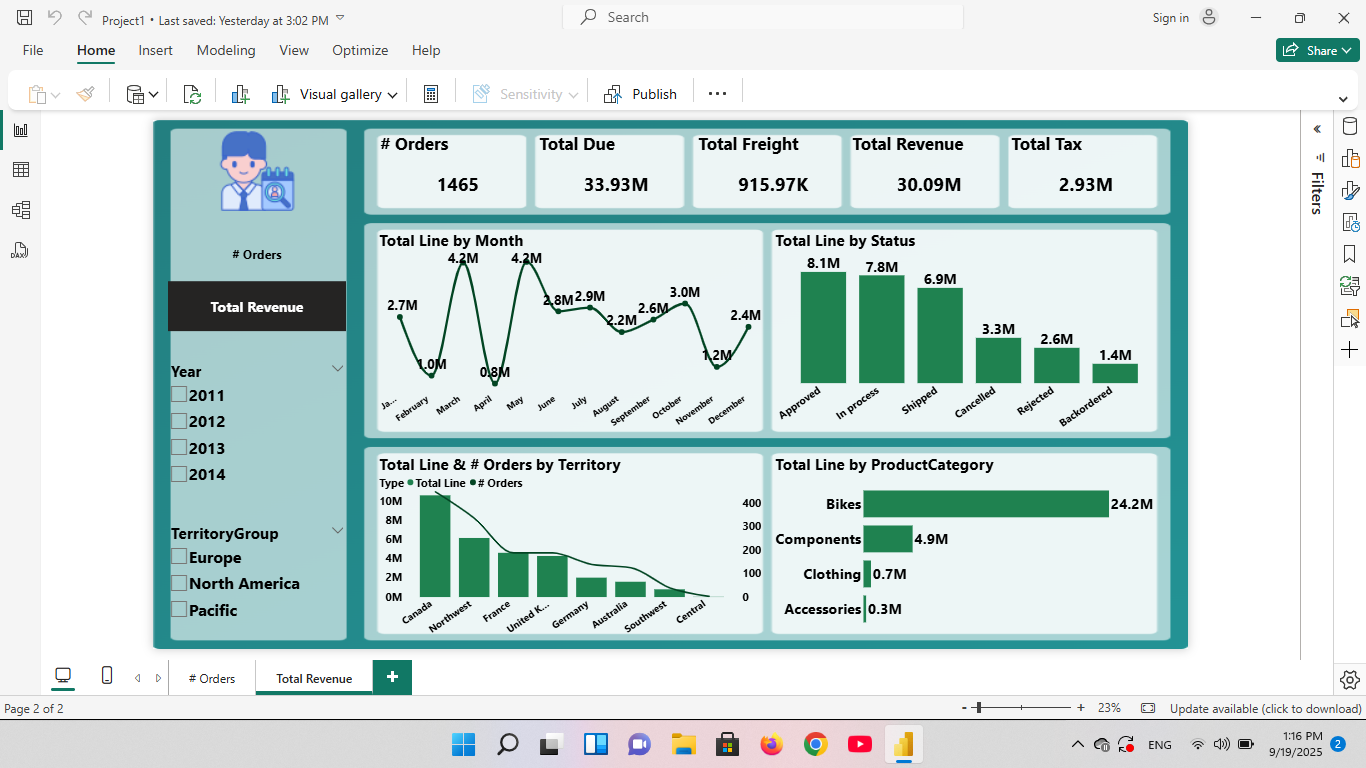

The dashboard page shown, as its layout file describes it:
{"tool":"powerbi","page":{"name":"Total Revenue","canvas":[4500,2300],"ordinal":1},"visuals":[{"type":"card","title":"# Orders","fields":{"Values":["Measures (2).# Orders"]},"box":[976.3,42.2,694.7,356.7],"z":0},{"type":"card","title":"Total Due","fields":{"Values":["Measures (2).Total Due"]},"box":[1671,42.2,690,356.7],"z":1000},{"type":"card","title":"Total Revenue","fields":{"Values":["Measures (2).Total Line"]},"box":[3032.2,42.2,690,356.7],"z":2000},{"type":"card","title":"Total Freight","fields":{"Values":["Measures (2).Total Freight"]},"box":[2361,42.2,671.2,356.7],"z":3000},{"type":"card","title":"Total Tax","fields":{"Values":["Measures (2).Total Tax"]},"box":[3722.2,42.2,671.2,356.7],"z":4000},{"type":"clusteredColumnChart","fields":{"Category":["dim_Status.Status"],"Y":["Measures (2).Total Line"]},"box":[2699,474.1,1694.5,887.1],"z":5000},{"type":"lineClusteredColumnComboChart","title":"Total Line & # Orders by Territory","fields":{"Category":["dim_Territory.Territory"],"Y2":["Measures (2).# Orders"],"Y":["Measures (2).Total Line"]},"box":[976.3,1445.7,1671,807.3],"z":6000},{"type":"lineChart","fields":{"Category":["dim_Date.Date.Variation.Date Hierarchy.Month"],"Y":["Measures (2).Total Line"]},"box":[976.3,474.1,1671,887.1],"z":7000},{"type":"clusteredBarChart","fields":{"Category":["dim_Product.ProductCategory"],"Y":["Measures (2).Total Line"]},"box":[2699,1445.7,1694.5,807.3],"z":8000},{"type":"image","box":[65.7,42.2,774.5,356.7],"z":9000},{"type":"pageNavigator","box":[65.7,474.1,774.5,445.9],"z":10000},{"type":"slicer","fields":{"Values":["dim_Territory.TerritoryGroup"]},"box":[65.7,1741.4,774.5,511.6],"z":11000},{"type":"slicer","fields":{"Values":["dim_Date.Year"]},"box":[65.7,1037.3,774.5,619.6],"z":11001}]}

Visuals, with their boxes on the page's 4500x2300 design canvas (x1, y1, x2, y2). These are canvas units, not pixel positions in the 1366x768 screenshot, which may show the page scaled, cropped or inside an application window:
"# Orders" card: 976,42,1671,399
"Total Due" card: 1671,42,2361,399
"Total Revenue" card: 3032,42,3722,399
"Total Freight" card: 2361,42,3032,399
"Total Tax" card: 3722,42,4393,399
clusteredColumnChart - dim_Status.Status x Measures (2).Total Line: 2699,474,4394,1361
"Total Line & # Orders by Territory" lineClusteredColumnComboChart: 976,1446,2647,2253
lineChart - dim_Date.Date.Variation.Date Hierarchy.Month x Measures (2).Total Line: 976,474,2647,1361
clusteredBarChart - dim_Product.ProductCategory x Measures (2).Total Line: 2699,1446,4394,2253
image: 66,42,840,399
pageNavigator: 66,474,840,920
slicer - dim_Territory.TerritoryGroup: 66,1741,840,2253
slicer - dim_Date.Year: 66,1037,840,1657
